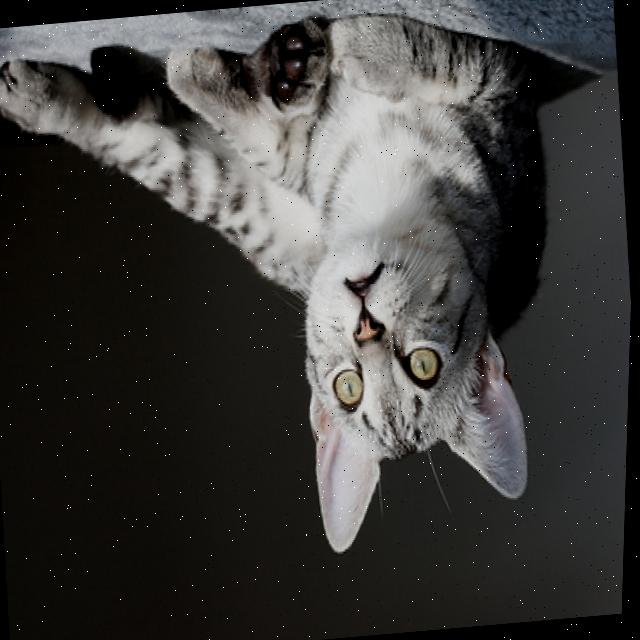Egyptian Mau: (0, 0, 585, 583)
